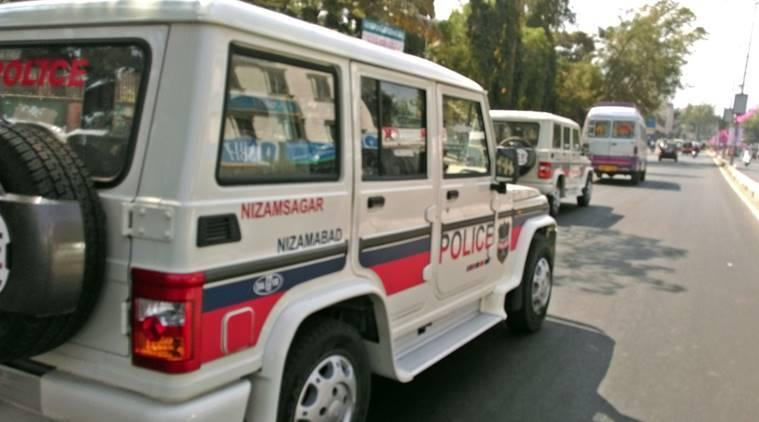Emergency-Vehicles: (9, 2, 555, 420), (477, 89, 616, 224), (582, 76, 654, 191)
